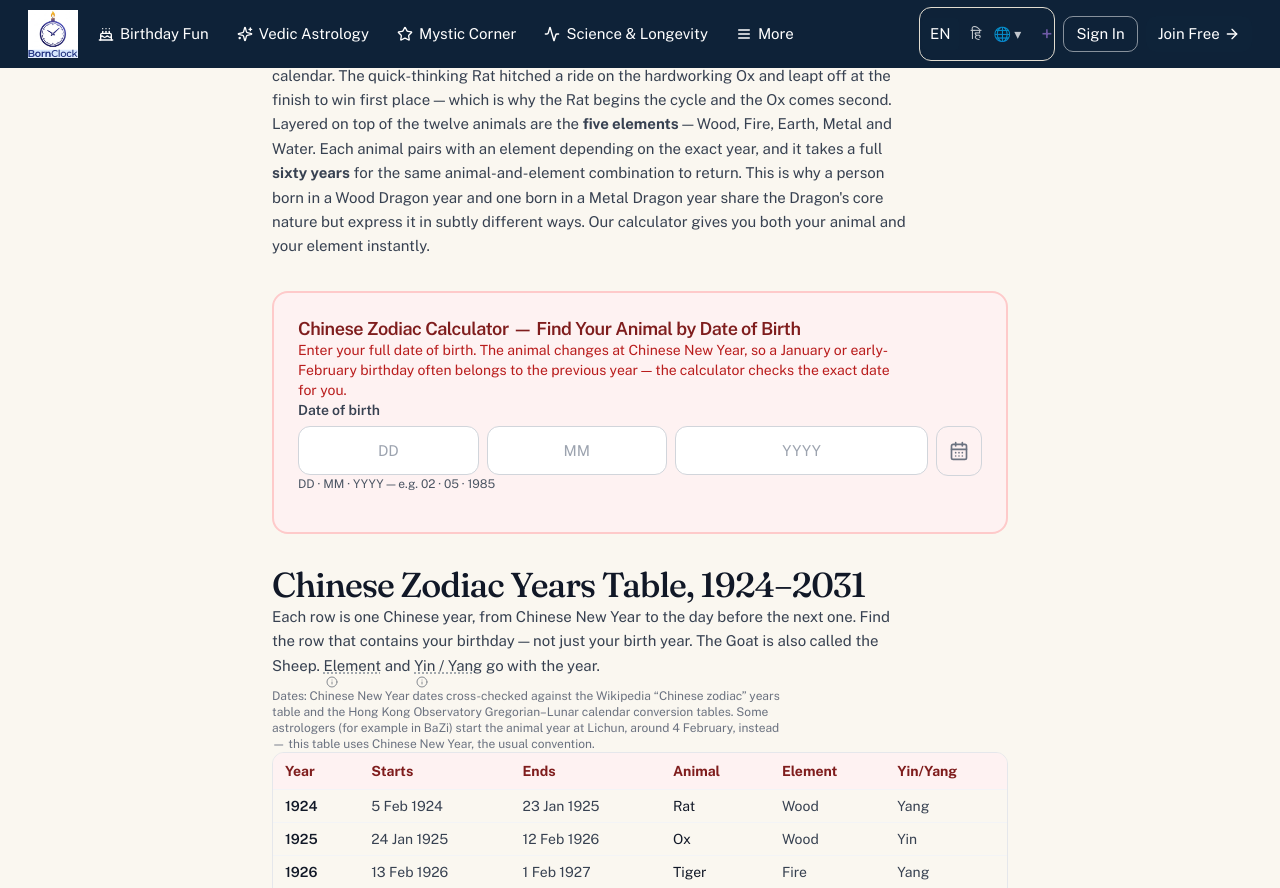
Test: ChineseZodiacArticle › TC-CHZ-P-06: date of birth 15-06-1988 shows Dragon
(page scrolled)
In the field with id "cz-dob-day": (388, 451) [298, 426, 479, 475], type "15"
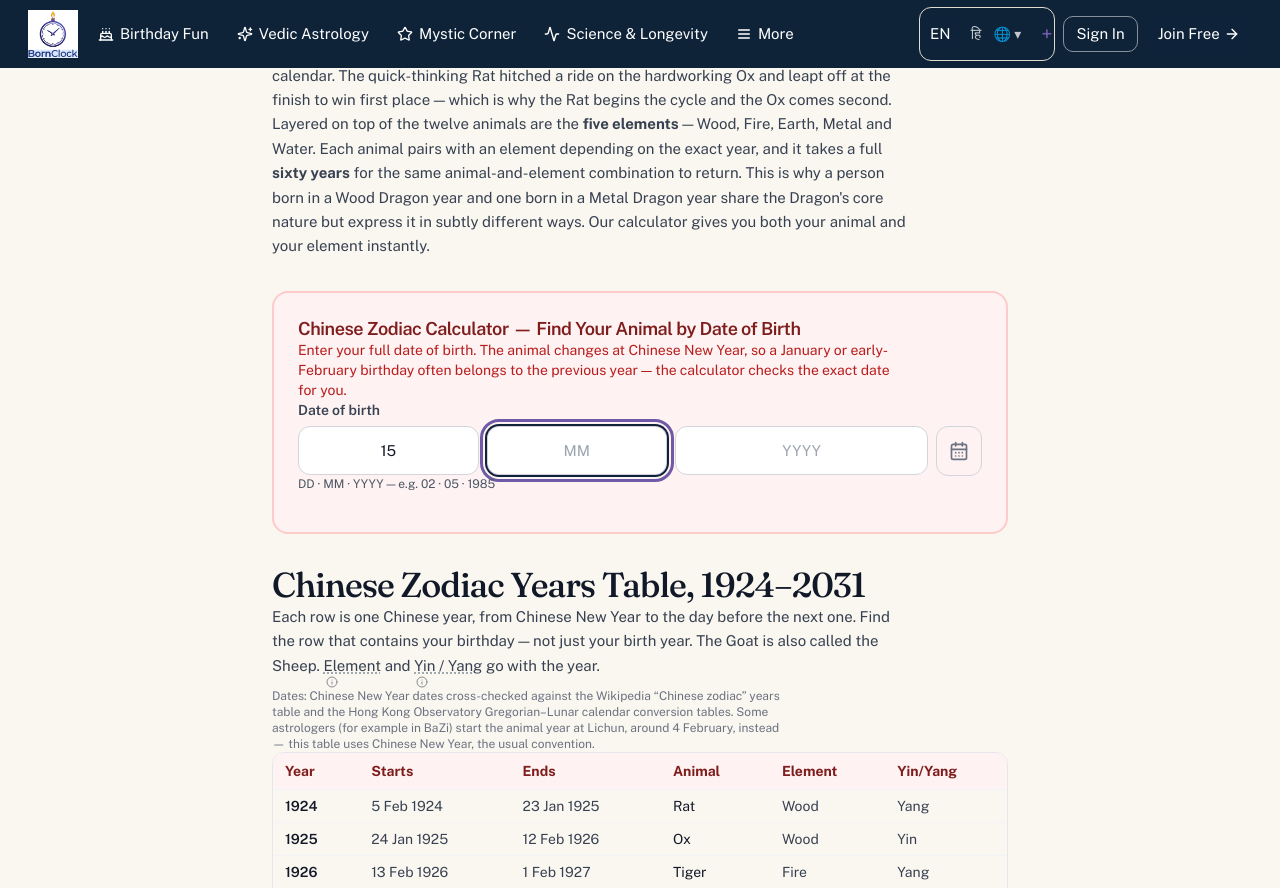
In the field with id "cz-dob-month": (577, 451) [487, 426, 667, 475], type "06"
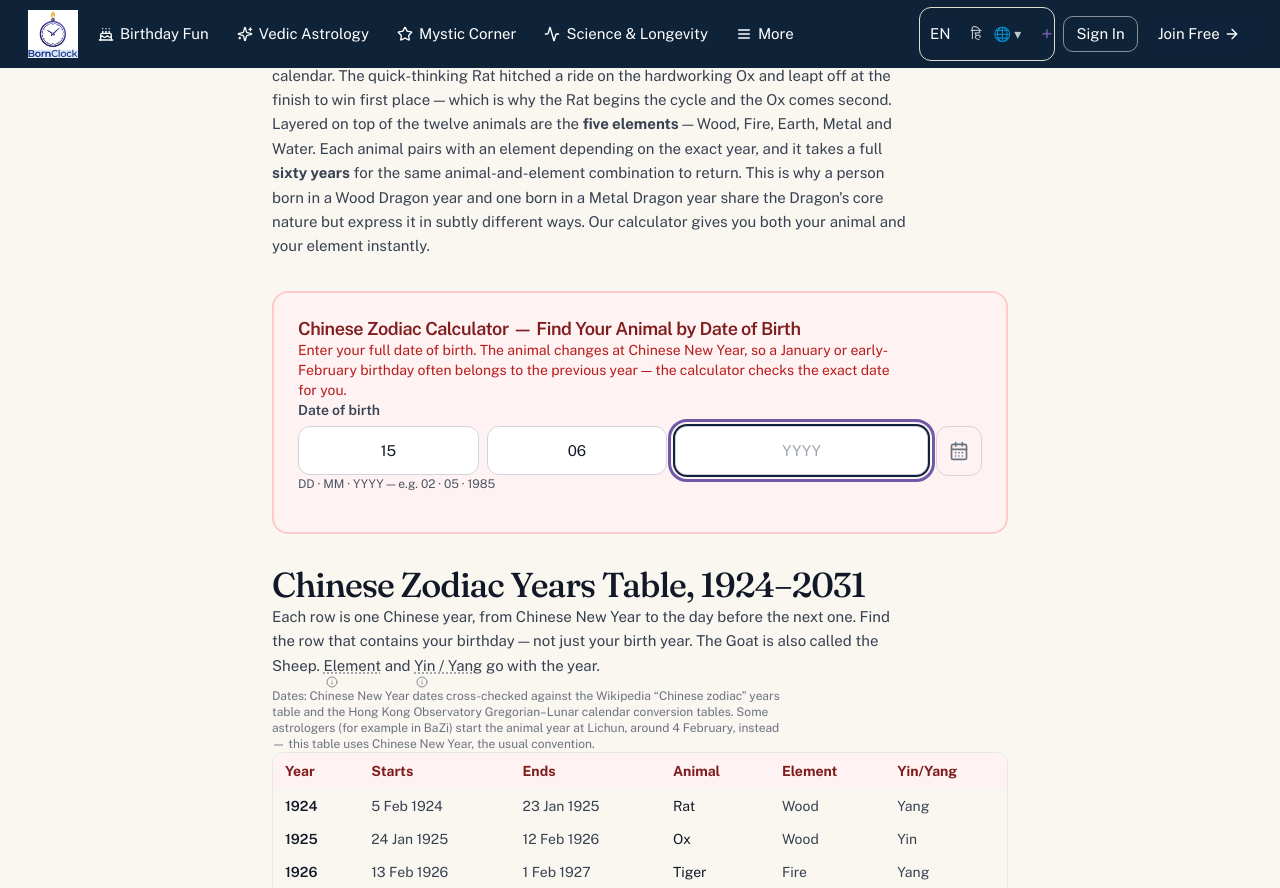
In the field with id "cz-dob-year": (802, 451) [675, 426, 928, 475], type "1988"
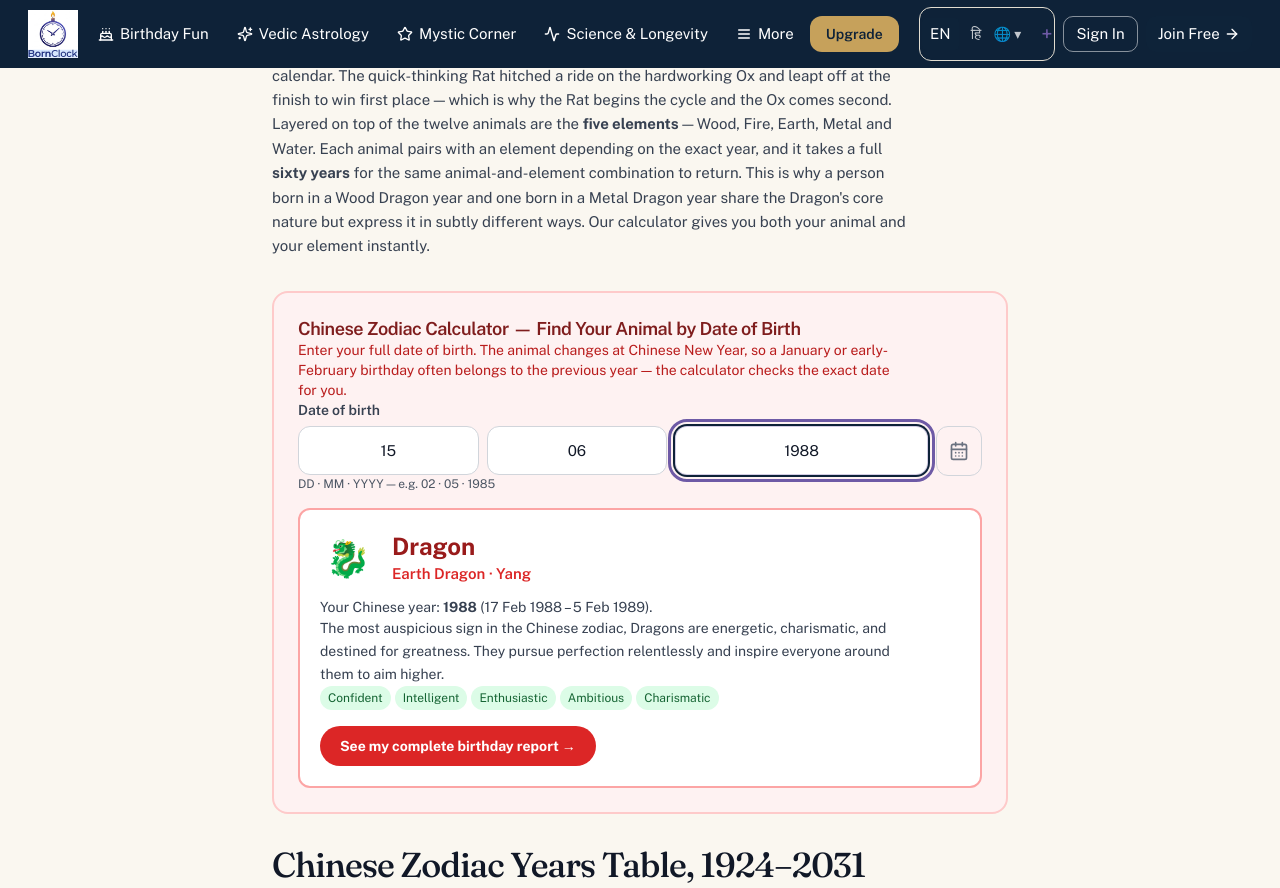
Expected: the element with test id "chinese-zodiac-result" shows "Dragon", [392, 532, 475, 560]
